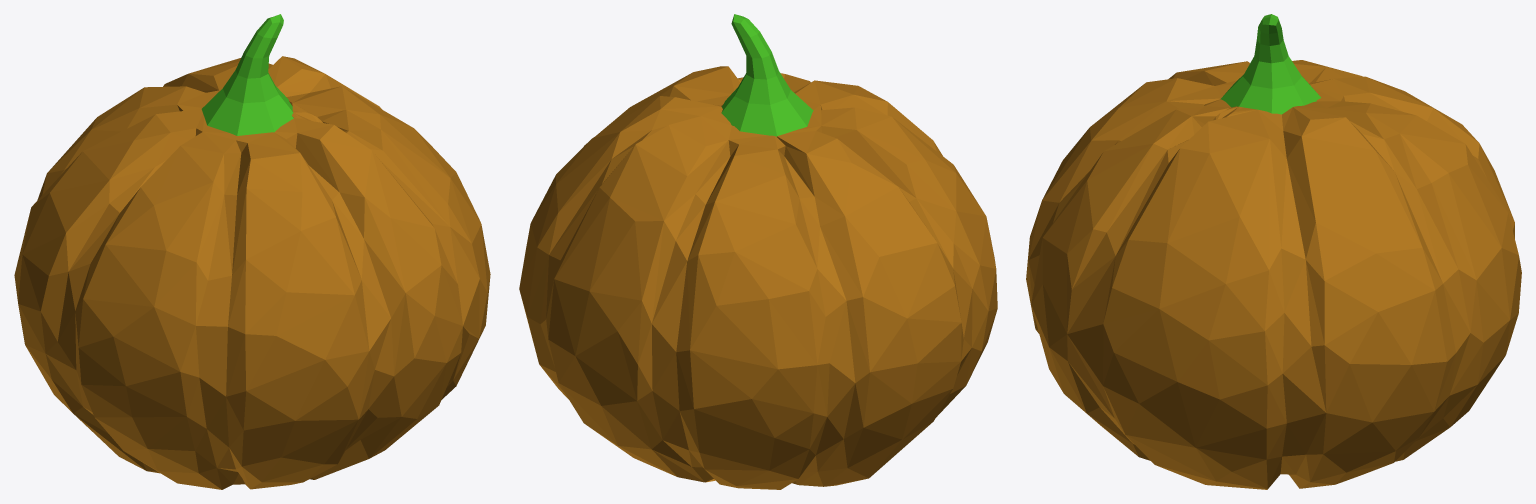
File: pumpkin.fbx
3 views of the same model, side by side, from view 1: azimuth 30°, elevation 25°; view 2: azimuth 150°, elevation 25°; view 3: azimuth 270°, elevation 25° (orthographic). The views are drawn at different scales.
Visible parts, largest first — view 1: Sphere, Cube; view 2: Sphere, Cube; view 3: Sphere, Cube.
Boxes of the visible parts, x1,y1,x2,y2 form: Sphere: (14,56,490,489); Cube: (201,14,293,135); Sphere: (519,66,997,489); Cube: (721,14,813,136); Sphere: (1026,60,1521,489); Cube: (1220,14,1320,114).
Size of the model in its own units: 198 by 201 by 197.
